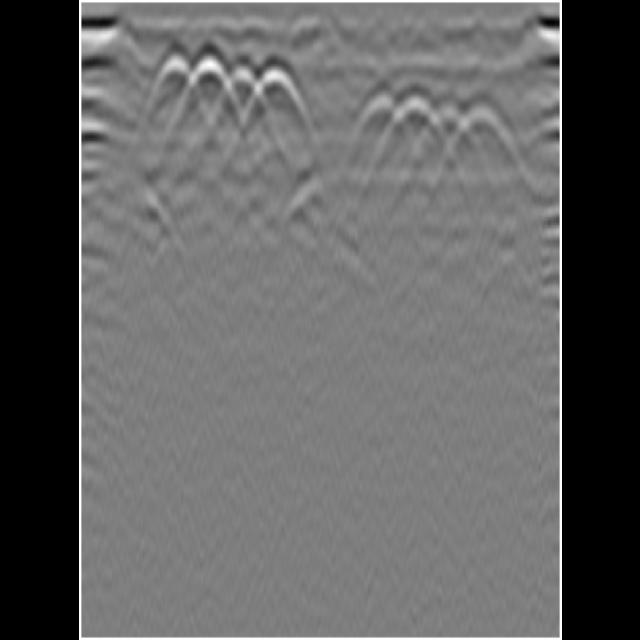hyperbola: (458, 101, 514, 157), (147, 48, 199, 106), (187, 51, 235, 104), (251, 62, 301, 111), (218, 62, 268, 110), (396, 93, 442, 145), (422, 100, 472, 146), (354, 94, 404, 136)
